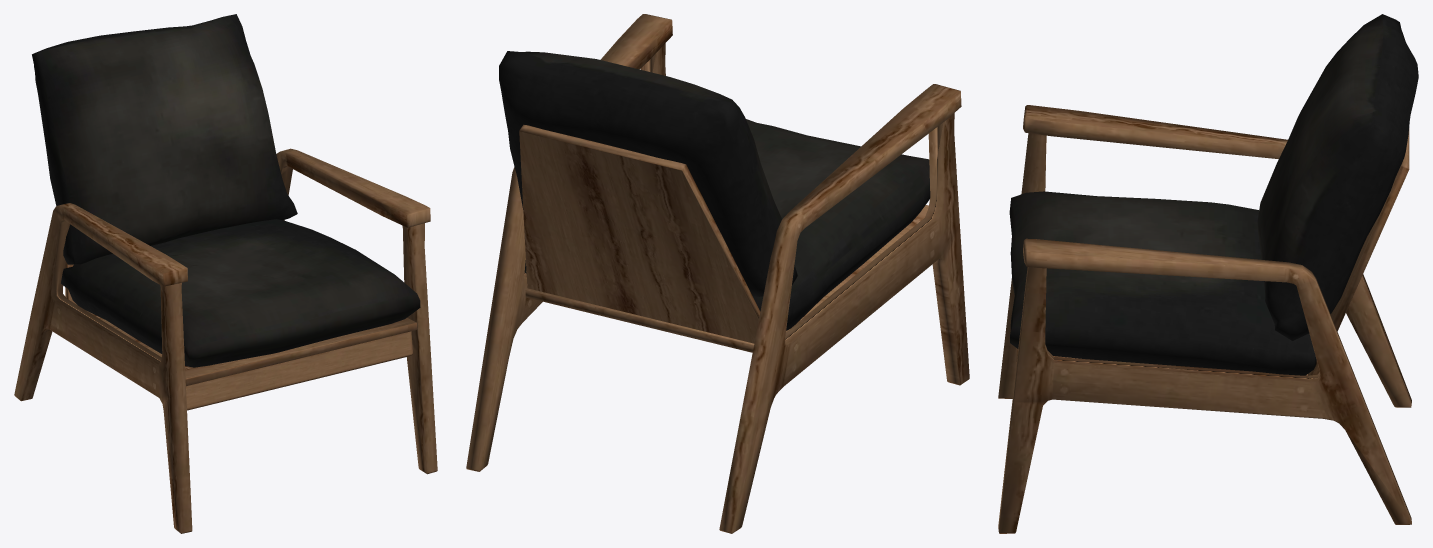
File: modern_arm_chair_01.glb
3 renders of one model, left to right at view 1: azimuth 30°, elevation 25°; view 2: azimuth 150°, elevation 25°; view 3: azimuth 270°, elevation 25°, orthographic. The views are drawn at different scales.
Parts seen in each view (by area): view 1: modern_arm_chair_01; view 2: modern_arm_chair_01; view 3: modern_arm_chair_01.
Boxes of the visible parts, x1,y1,x2,y2 form: modern_arm_chair_01: (14, 14, 437, 533); modern_arm_chair_01: (466, 14, 969, 533); modern_arm_chair_01: (998, 14, 1418, 533).
Bounding box in the file's own units: 0.8192 × 1.02 × 0.9863.
Materials: 2 (2 with a texture image).
